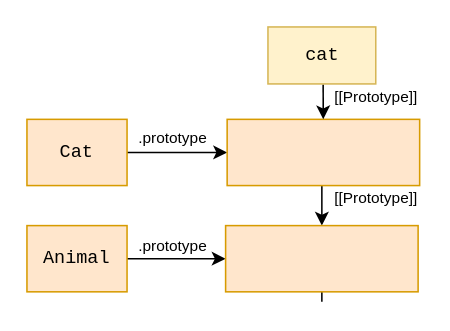
Image size: 450x331. Some labels were removed from this diagram. The centre of each missing label's shape, as x and y in pixels:
Animal.prototype: [321,258]
Cat.prototype: [323,152]
